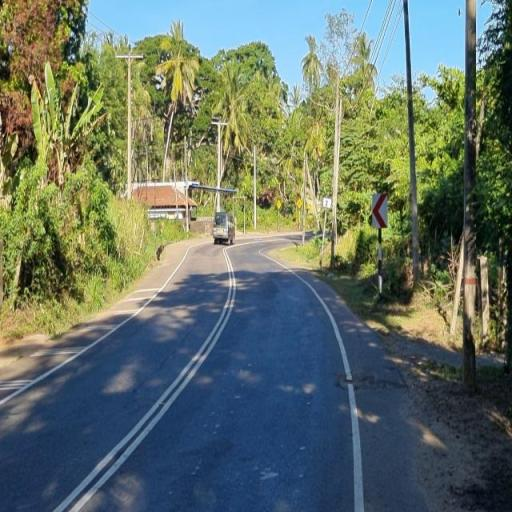double_white_line: (47, 249, 239, 512)
